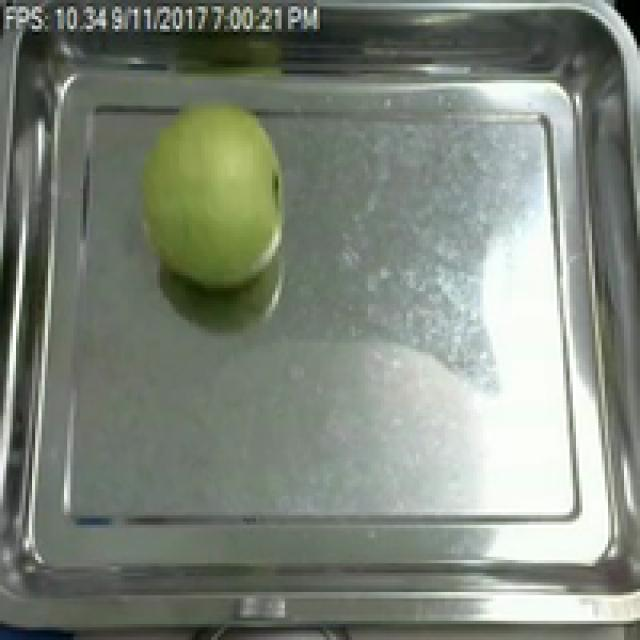Fruit: (128, 93, 298, 301)
